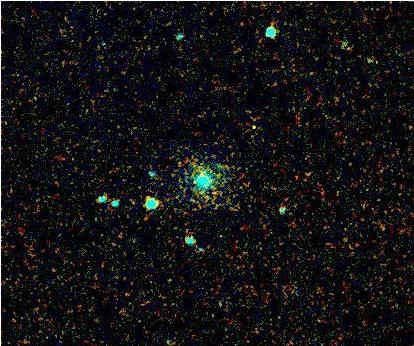star: (237, 112, 267, 142)
